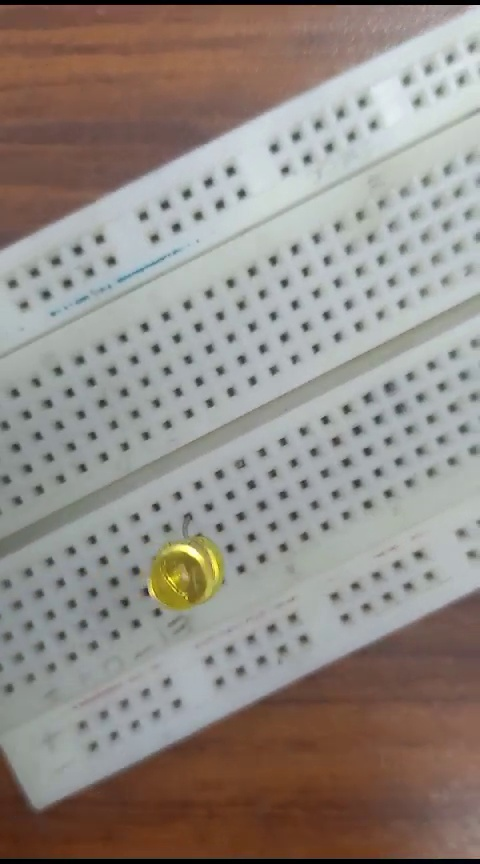LED: (143, 531, 222, 615)
